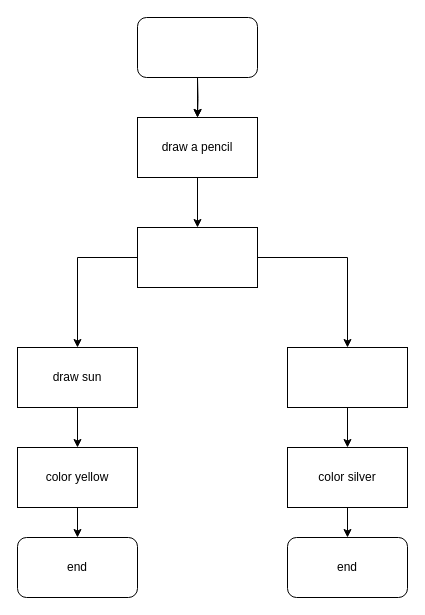
This 425x615 diagram has some shape labels left out. Here are the shapes that lost their labels. From the top down, the centre of each, then its label:
At (197,47): "start".
At (197,257): "is pencil yellow".
At (347,377): "draw moon".
